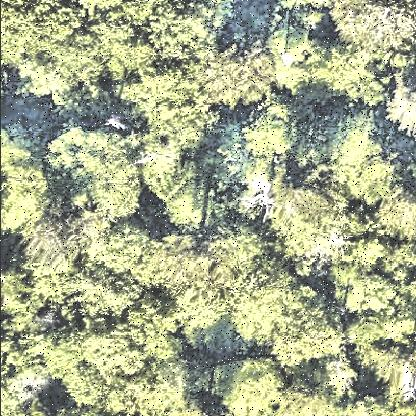tree-top: (47, 127, 141, 223), (277, 183, 350, 279), (224, 260, 296, 347), (201, 41, 278, 121), (319, 116, 397, 194), (161, 224, 237, 304), (111, 65, 197, 131), (1, 1, 81, 68), (2, 127, 51, 235), (276, 297, 346, 371), (97, 363, 191, 416), (85, 1, 151, 73), (84, 226, 163, 286), (27, 204, 91, 274), (133, 133, 195, 205), (329, 1, 416, 52), (151, 1, 226, 55), (114, 305, 182, 363), (319, 42, 382, 104), (246, 98, 306, 162), (216, 356, 280, 416), (165, 180, 233, 233), (65, 270, 130, 325), (336, 272, 399, 320), (53, 32, 98, 93), (1, 267, 36, 344), (87, 326, 143, 372), (370, 191, 416, 246), (46, 330, 86, 381), (377, 303, 416, 352), (21, 62, 68, 102), (386, 79, 416, 139), (326, 357, 357, 395)
